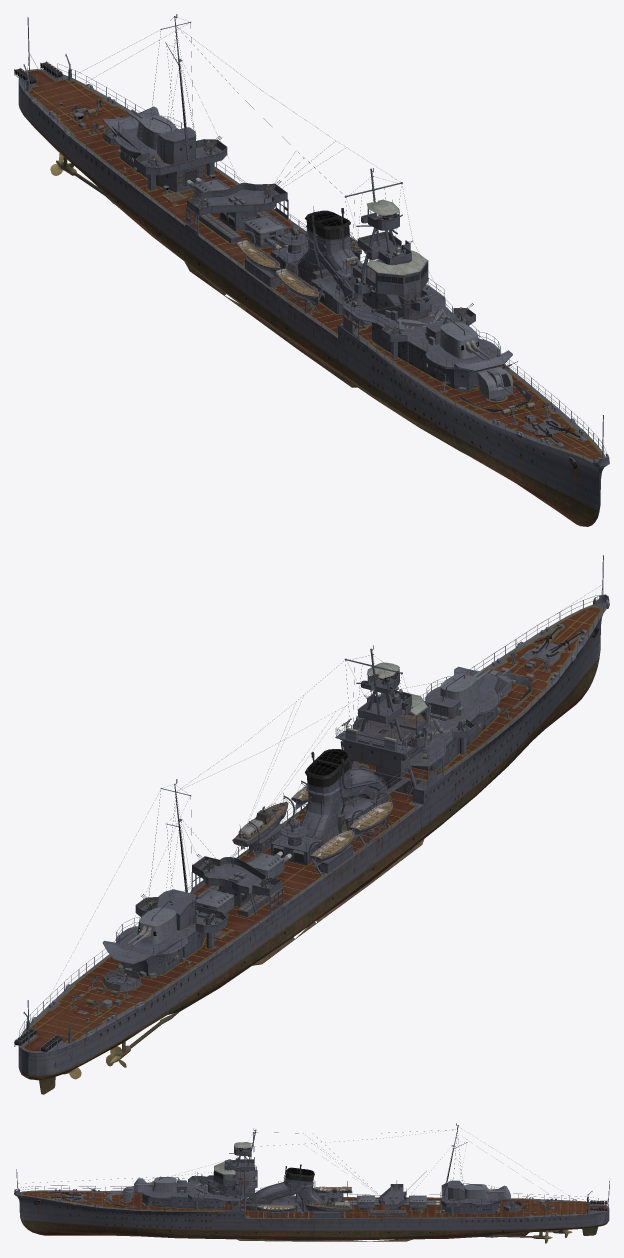
Rendered from ijn_yubari-maximum-compressed.glb.
3 views of the same model, one above another, from view 1: azimuth 30°, elevation 25°; view 2: azimuth 150°, elevation 25°; view 3: azimuth 270°, elevation 25° (orthographic). The views are drawn at different scales.
Parts seen in each view (by area): view 1: Material2 (×12); view 2: Material2 (×12); view 3: Material2 (×14).
Part boxes in pixels (<box>): Material2 (×12): <box>18,14,609,526</box>; Material2 (×12): <box>18,555,609,1094</box>; Material2 (×14): <box>14,1123,609,1241</box>.
Size of what is drawn, in the model's own units: 510 by 1146 by 5475.
Materials: 45 (44 with a texture image).
